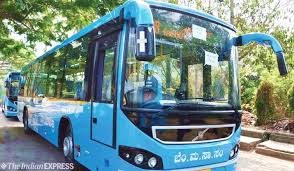bus: (17, 1, 288, 171), (2, 71, 28, 119)
